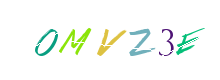3: (93, 0, 173, 80)
E: (129, 0, 209, 80)
M: (61, 0, 141, 80)
O: (36, 0, 116, 80)
V: (69, 0, 149, 80)
Z: (75, 0, 155, 80)
